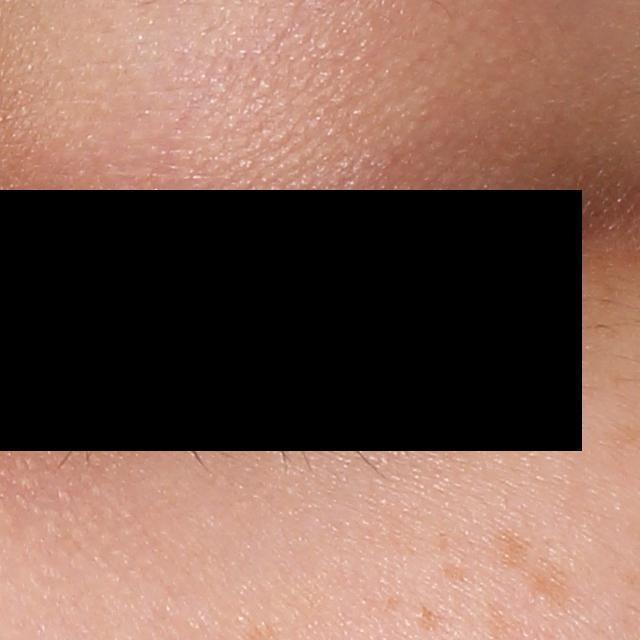melasma: (520, 559, 571, 606), (489, 525, 534, 574), (417, 604, 447, 631), (438, 561, 470, 586)
